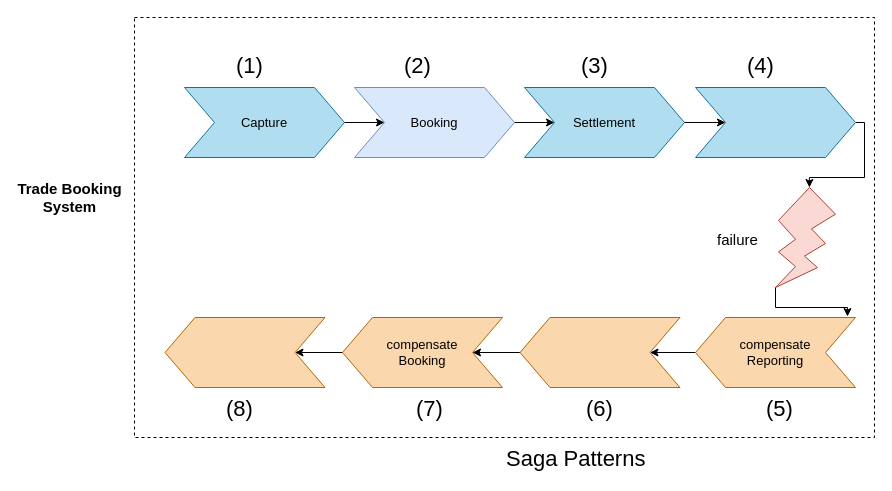
This 892x491 diagram has some shape labels left out. The shapes that lost their labels are listed below. From the top down, each one's centre as x and y in pixels, then its label:
At point (775, 122): "Reporting".
At point (244, 352): "compensate Capture".
At point (599, 352): "compensate Settlement".
